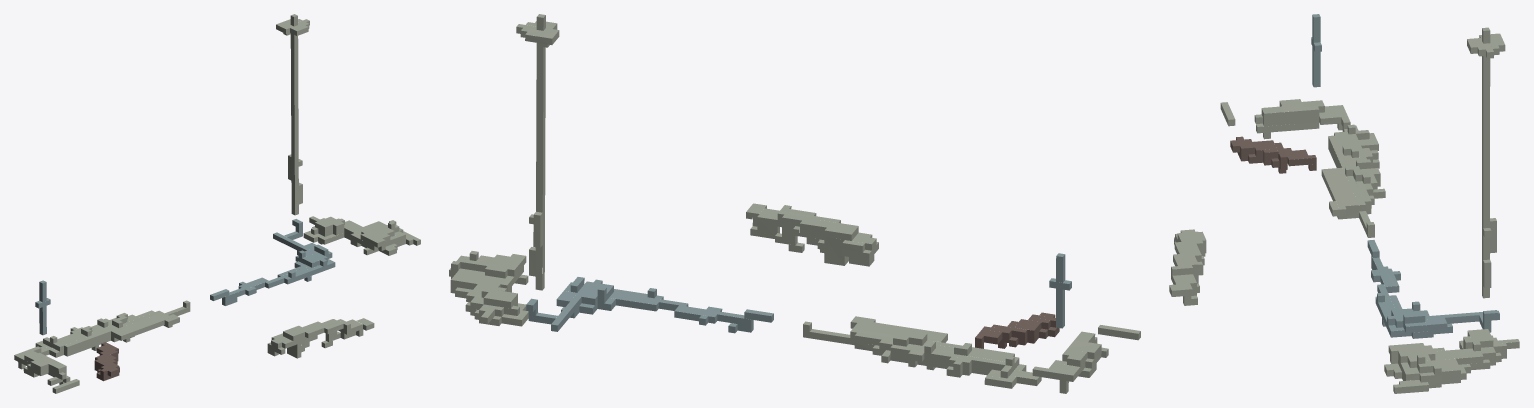
3 views of the same model, side by side, from view 1: azimuth 30°, elevation 25°; view 2: azimuth 150°, elevation 25°; view 3: azimuth 270°, elevation 25° (orthographic). The views are drawn at different scales.
Parts seen in each view (by area): view 1: measured-industrial; view 2: measured-industrial; view 3: measured-industrial.
Part boxes in pixels (box(x1,y1,x2,y2)): measured-industrial: box(14, 14, 420, 393); measured-industrial: box(449, 14, 1140, 393); measured-industrial: box(1169, 14, 1519, 393).
Bounding box in the file's own units: 95.26 × 49.33 × 50.
